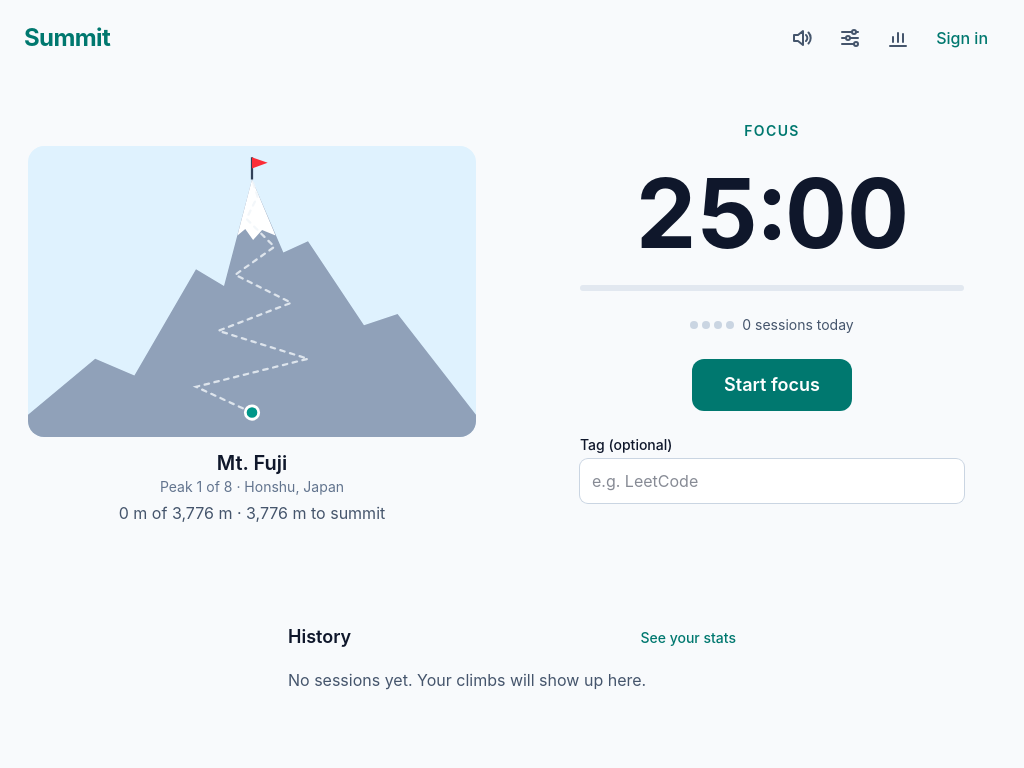
Scenario: App: sessions, history, and reloads › records a give-up in history without adding elevation
Click the button "Start focus". click: (772, 384)
box: [692, 358, 852, 410]
Wait 600000 ms
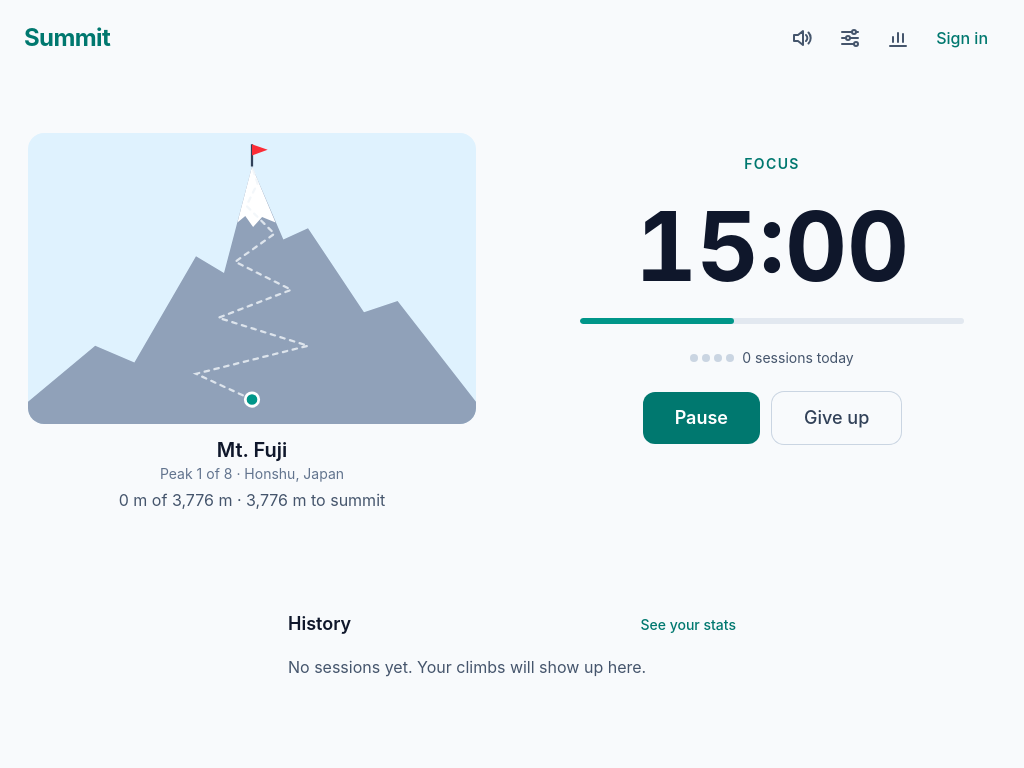
Click the button "Give up". click: (837, 418)
box: [772, 392, 901, 444]
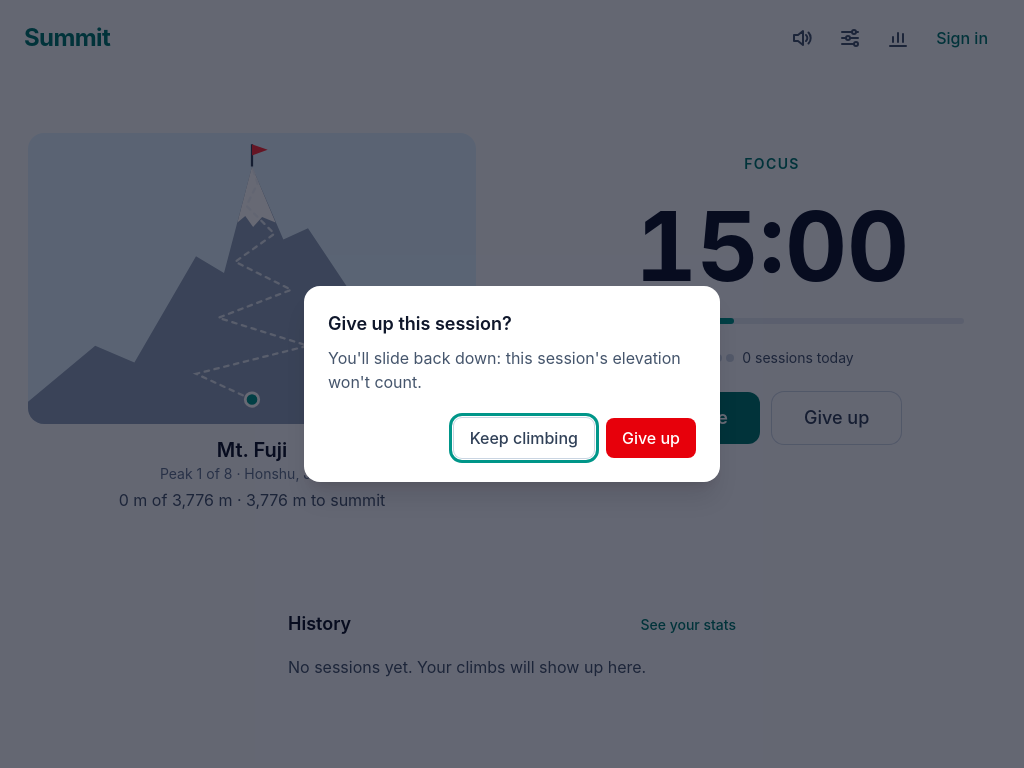
Click the button "Give up". click: (651, 438)
box: [606, 418, 696, 458]
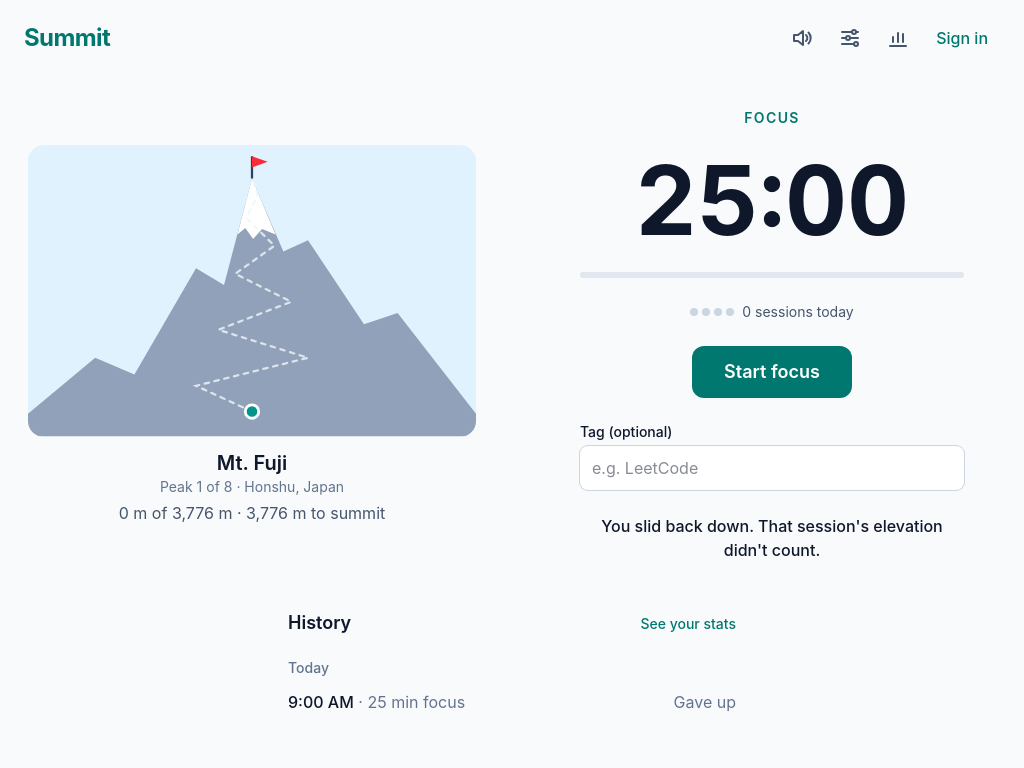
Expected: the picture named "Climber at 0 m of 3,776 m on Mt. Fuji" is shown, [28, 145, 476, 437]
Expected: the text "Gave up" is shown, [674, 690, 736, 714]
